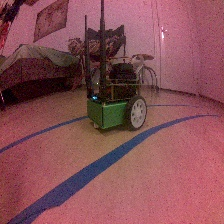rob: (85, 61, 147, 131)
